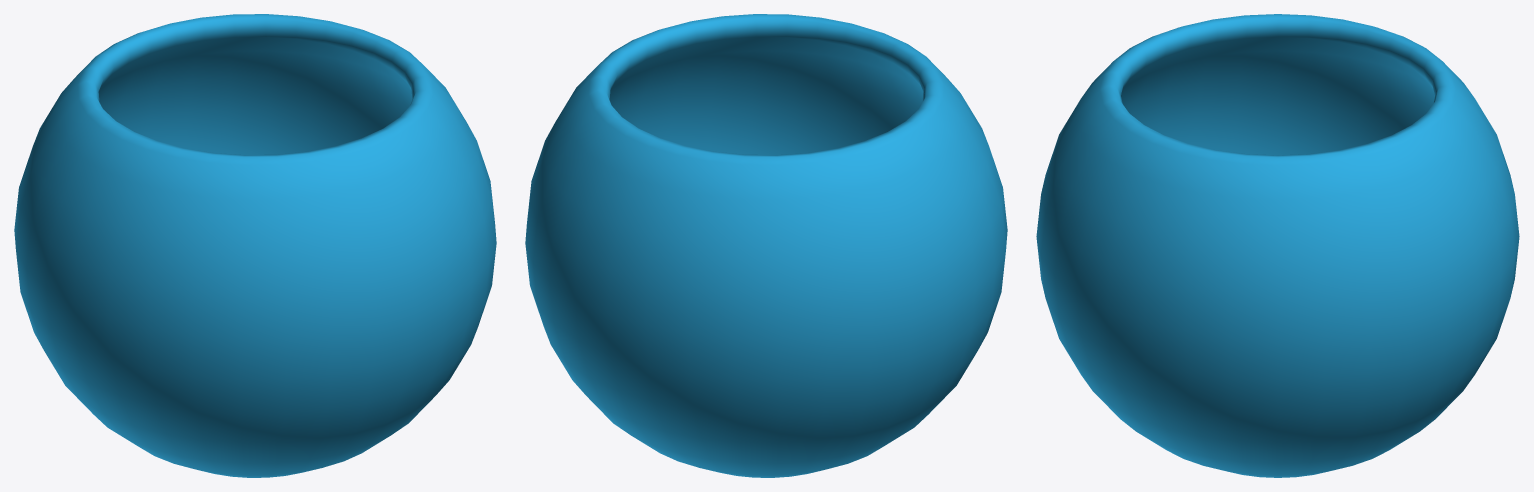
The model's file is Fanus.fbx.
The picture shows the model from 3 angles, left to right: view 1: azimuth 30°, elevation 25°; view 2: azimuth 150°, elevation 25°; view 3: azimuth 270°, elevation 25°; orthographic projection.
Parts seen in each view (by area): view 1: Sphere; view 2: Sphere; view 3: Sphere.
Boxes of the visible parts, <box> form: Sphere: <box>14,14,496,477</box>; Sphere: <box>525,14,1007,477</box>; Sphere: <box>1036,14,1519,477</box>.
Size of the model in its own units: 200 by 169 by 200.
1 material, 1 textured.
